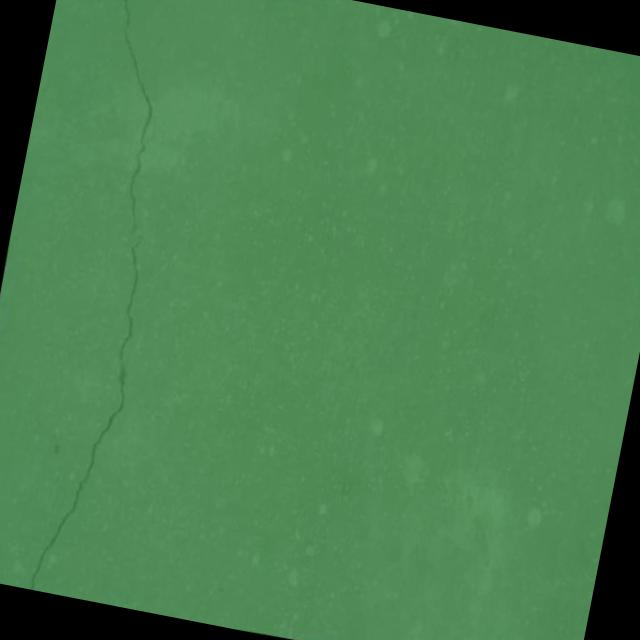crack: (2, 0, 211, 601)
